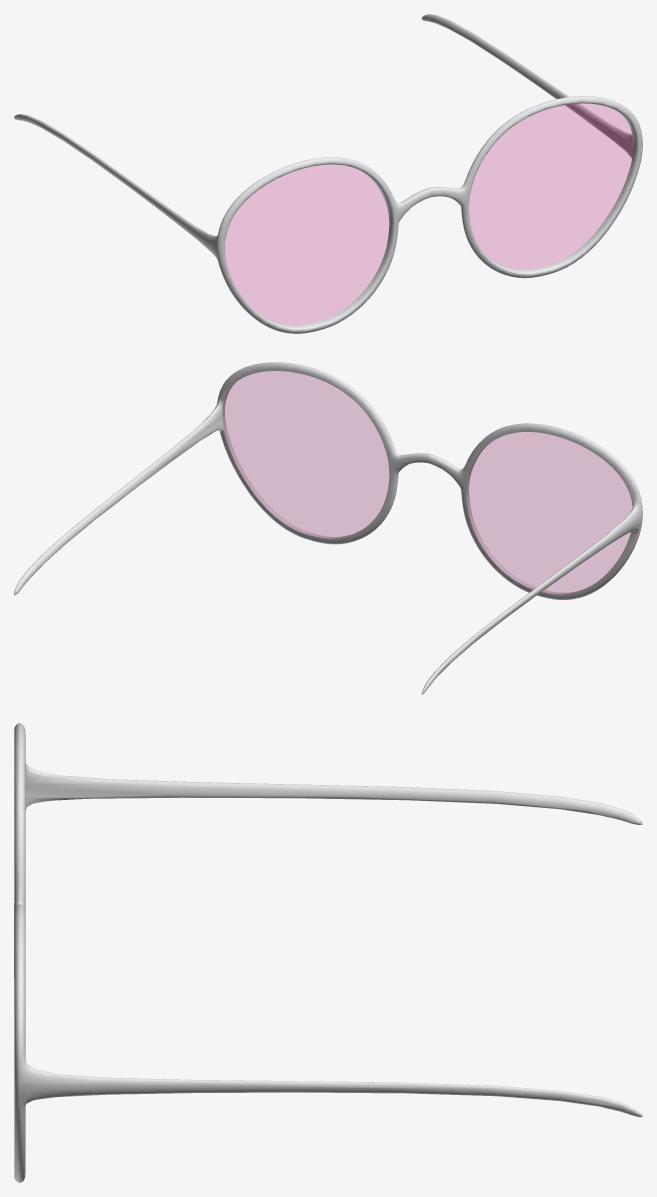
The model's file is eyewear-glasses-002-f556e1c4.glb.
3 views of the same model, one above another, from view 1: azimuth 30°, elevation 25°; view 2: azimuth 150°, elevation 25°; view 3: azimuth 270°, elevation 25° (orthographic). The views are drawn at different scales.
Visible parts, largest first — view 1: Geo_Female_White_Glasses.004; view 2: Geo_Female_White_Glasses.004; view 3: Geo_Female_White_Glasses.004.
Part boxes in pixels (x1=…): Geo_Female_White_Glasses.004: x1=14, y1=14, x2=642, y2=333; Geo_Female_White_Glasses.004: x1=14, y1=362, x2=642, y2=694; Geo_Female_White_Glasses.004: x1=14, y1=723, x2=642, y2=1182.
Bounding box in the file's own units: 1.5 × 0.5807 × 1.3.
